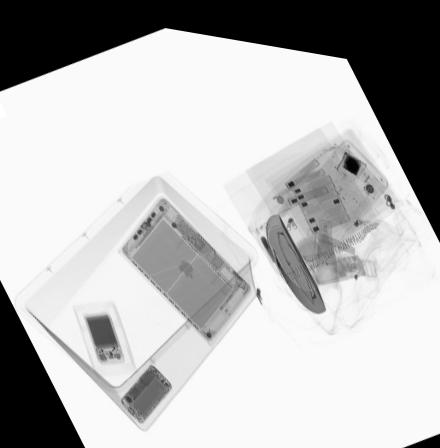Powerbank: (80, 308, 125, 359)
